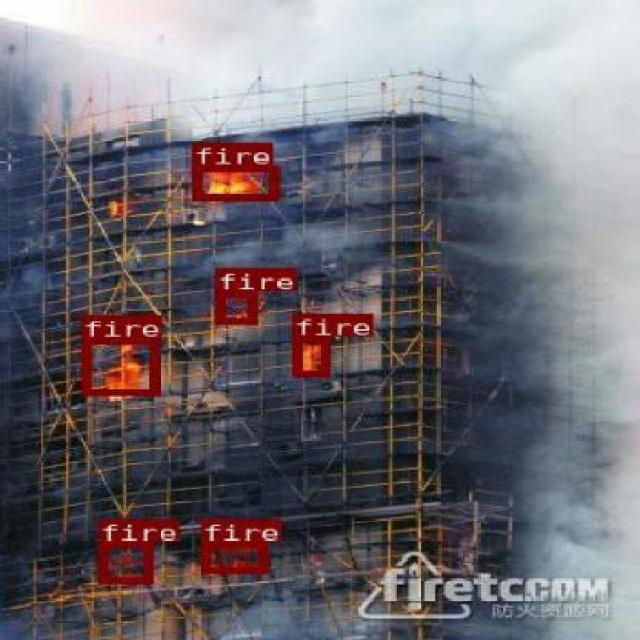Fire: (80, 338, 158, 394), (192, 164, 276, 199), (96, 540, 152, 582), (200, 540, 265, 572), (291, 334, 327, 376), (214, 289, 254, 323)
Smoke: (418, 24, 638, 565), (4, 9, 178, 119)
